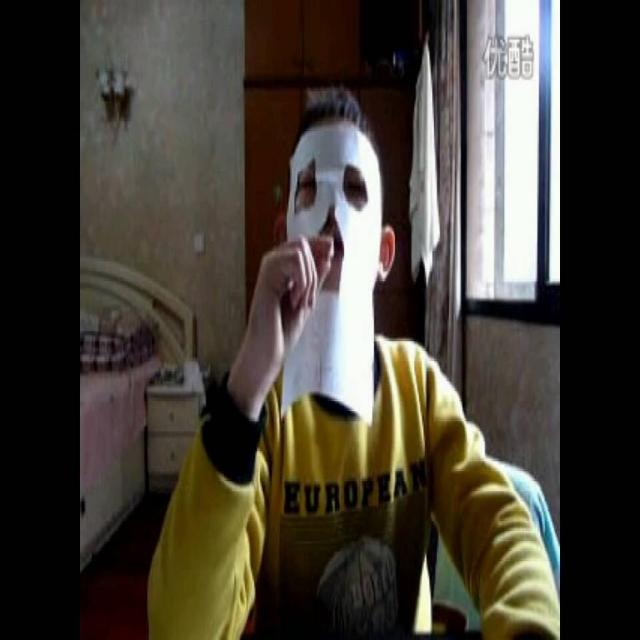smoking: (212, 85, 425, 440)
